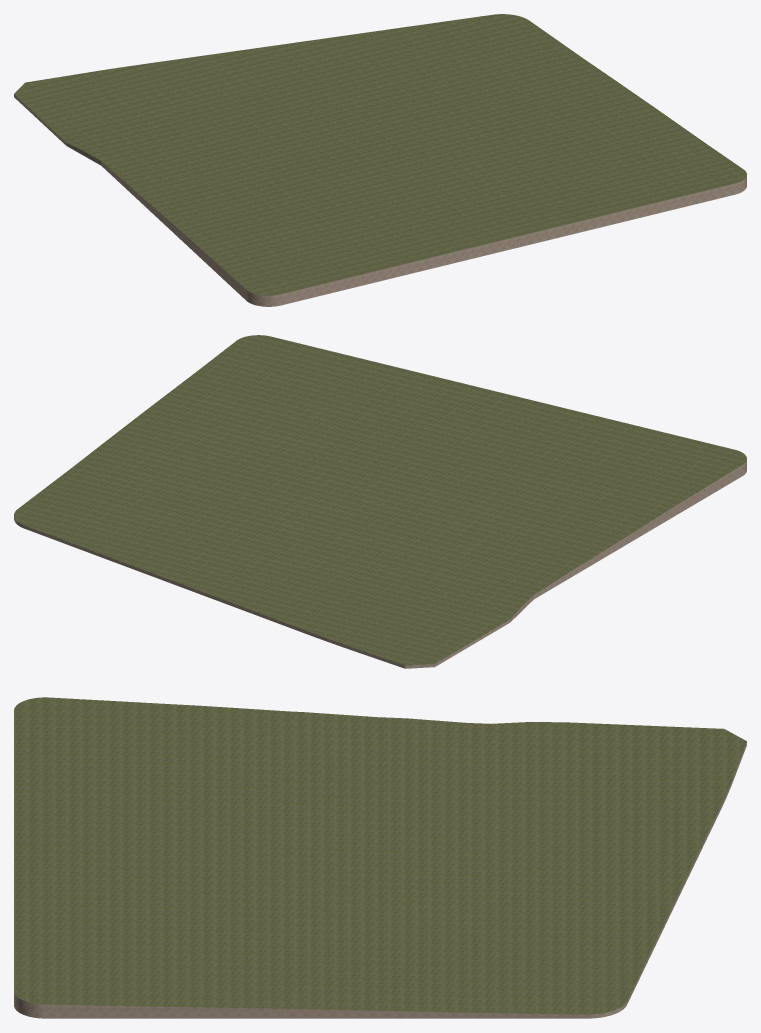
Rendered from plot1.fbx.
The picture shows the model from 3 angles, top to bottom: view 1: azimuth 30°, elevation 25°; view 2: azimuth 150°, elevation 25°; view 3: azimuth 270°, elevation 25°; orthographic projection. The views are drawn at different scales.
Parts seen in each view (by area): view 1: Grass - Brown, Stonework - Gravel; view 2: Grass - Brown, Stonework - Gravel; view 3: Grass - Brown, Stonework - Gravel.
Boxes of the visible parts, x1,y1,x2,y2 form: Grass - Brown: (14, 14, 746, 295); Stonework - Gravel: (14, 94, 746, 306); Grass - Brown: (14, 335, 746, 665); Stonework - Gravel: (14, 460, 746, 668); Grass - Brown: (14, 697, 746, 1014); Stonework - Gravel: (14, 742, 746, 1018).
Bounding box in the file's own units: 162 × 3.5 × 164.
Materials: 2 (2 with a texture image).
